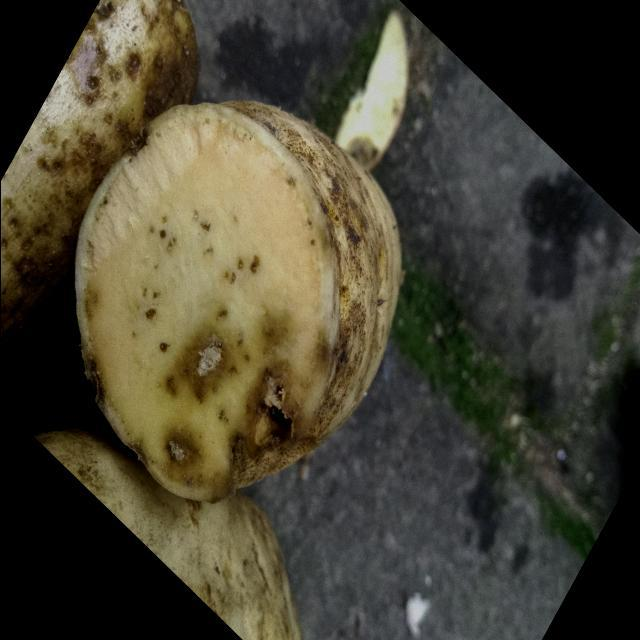Sick Sweet Potato_Tuber Rot: (74, 103, 336, 502)
